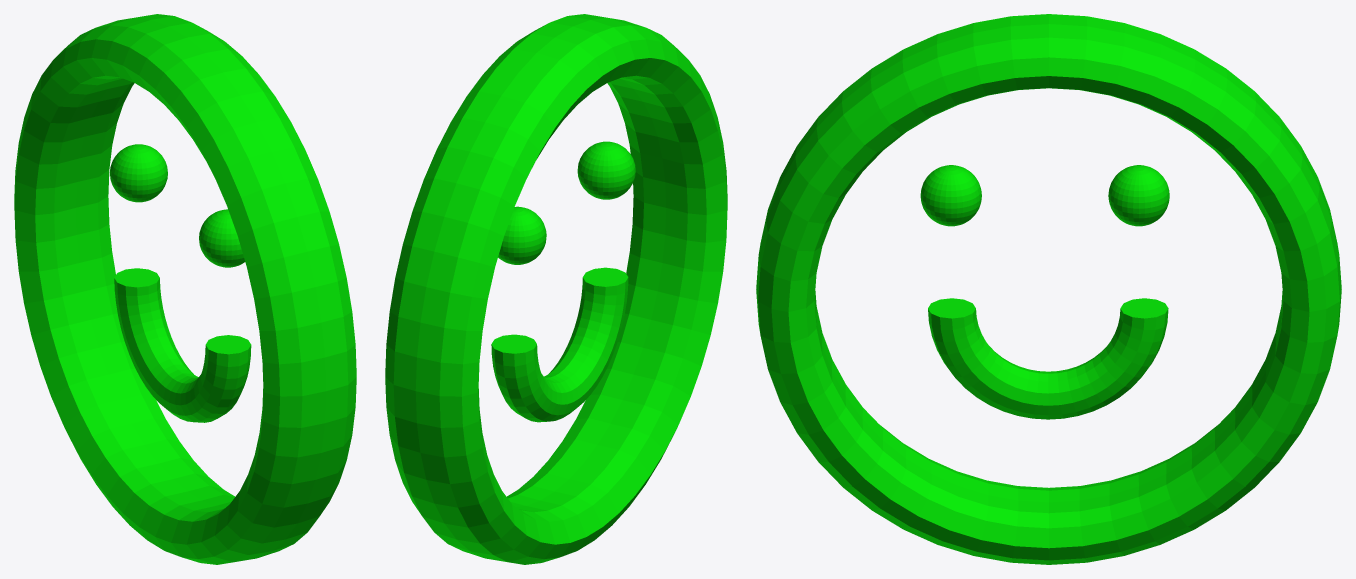
The model's file is smileyGreen.dae.
3 views of the same model, side by side, from view 1: azimuth 30°, elevation 25°; view 2: azimuth 150°, elevation 25°; view 3: azimuth 270°, elevation 25° (orthographic). The views are drawn at different scales.
Visible parts, largest first — view 1: Torus_001, Torus_002, Sphere, Sphere_001; view 2: Torus_001, Torus_002, Sphere_001, Sphere; view 3: Torus_001, Torus_002, Sphere_001, Sphere.
Boxes of the visible parts, left/top/right/bottom form: Torus_001: left=14, top=14, right=356, bottom=564; Torus_002: left=114, top=268, right=251, bottom=422; Sphere: left=110, top=144, right=167, bottom=202; Sphere_001: left=199, top=209, right=244, bottom=267; Torus_001: left=385, top=14, right=727, bottom=564; Torus_002: left=491, top=267, right=628, bottom=422; Sphere_001: left=577, top=141, right=635, bottom=199; Sphere: left=498, top=206, right=546, bottom=264; Torus_001: left=756, top=14, right=1341, bottom=564; Torus_002: left=928, top=298, right=1168, bottom=419; Sphere_001: left=920, top=165, right=981, bottom=226; Sphere: left=1108, top=165, right=1169, bottom=226.
Bounding box in the file's own units: 0.548 × 2.86 × 2.86.
